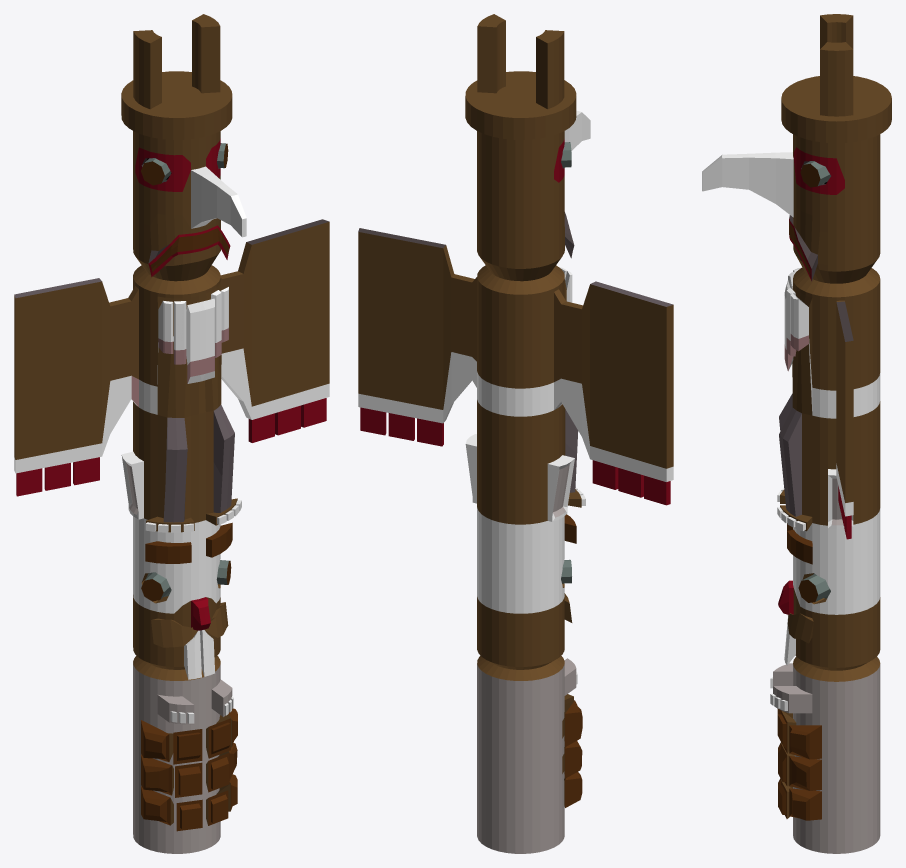
The model's file is totem.glb.
3 views of the same model, side by side, from view 1: azimuth 30°, elevation 25°; view 2: azimuth 150°, elevation 25°; view 3: azimuth 270°, elevation 25° (orthographic).
Visible parts, largest first — view 1: Cylinder; view 2: Cylinder; view 3: Cylinder.
Part boxes in pixels (<box>): Cylinder: <box>14,14,329,853</box>; Cylinder: <box>358,14,673,853</box>; Cylinder: <box>702,14,891,853</box>.
Bounding box in the file's own units: 40.53 × 99.39 × 21.31.
1 material, 1 textured.
